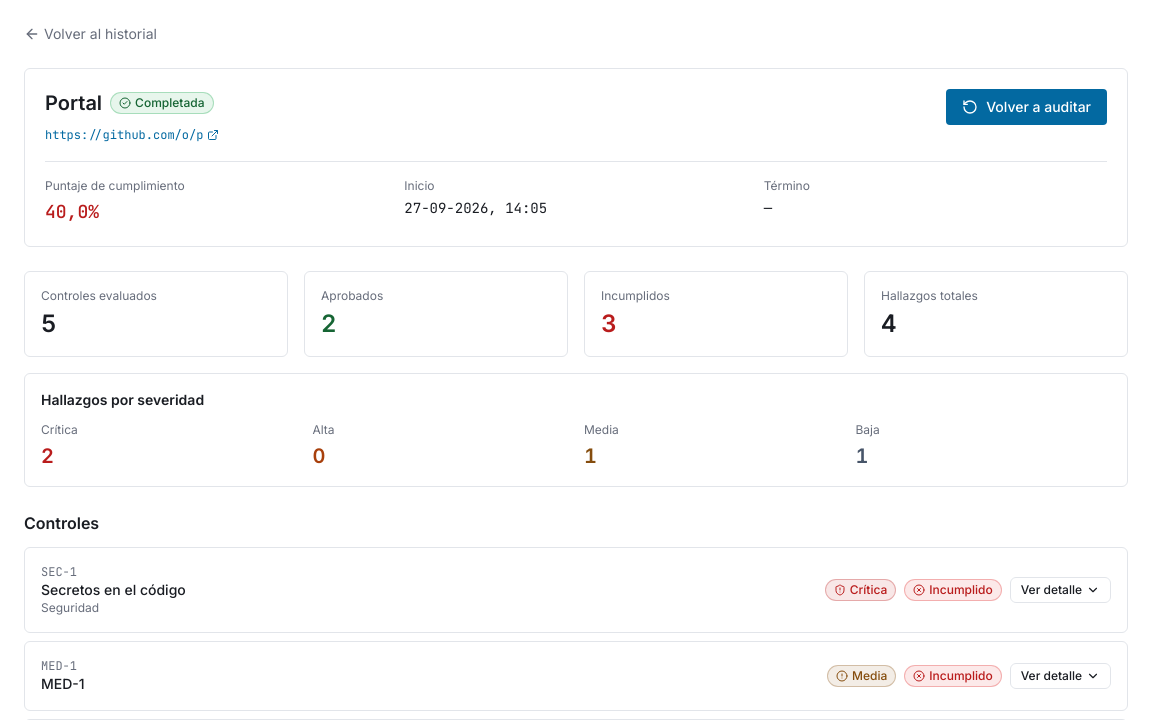
Test case: AuditDetailPage › despliega la remediación y los hallazgos al expandir
Expected: the text "src/x.ts:12" is not shown
Click the button with aria-label "Ver detalle de SEC-1": (1060, 590) x1=1010 y1=577 x2=1111 y2=603
(page scrolled)
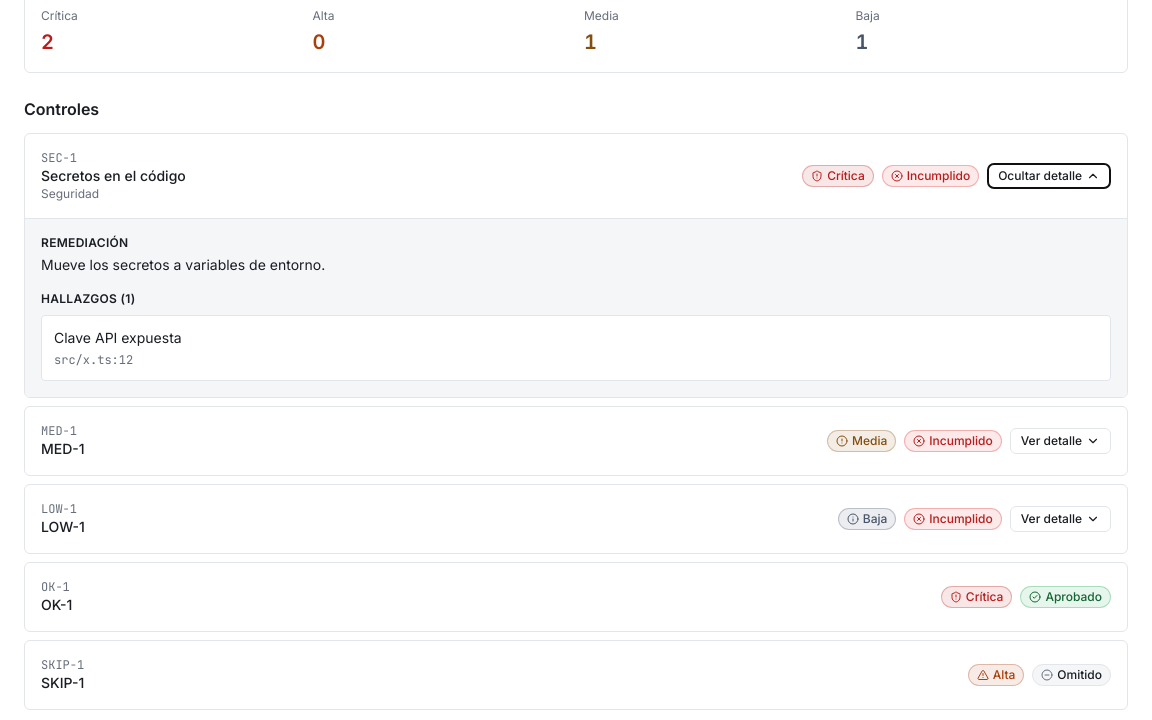
Result: the button named "Ver detalle de SEC-1" is expanded at x1=987 y1=163 x2=1111 y2=189
Result: the text "Mueve los secretos a variables de entorno." is shown at x1=41 y1=256 x2=325 y2=273
Result: the text "Clave API expuesta" is shown at x1=54 y1=329 x2=182 y2=346
